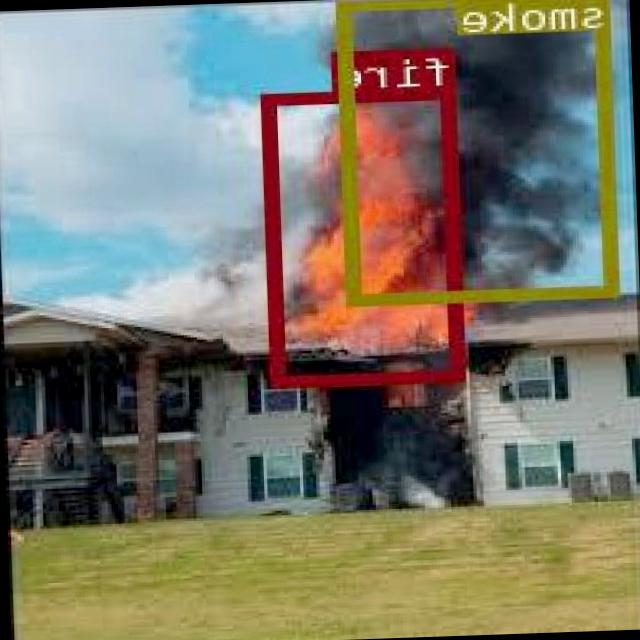fire: (264, 84, 468, 384)
smoke: (340, 0, 621, 302)
